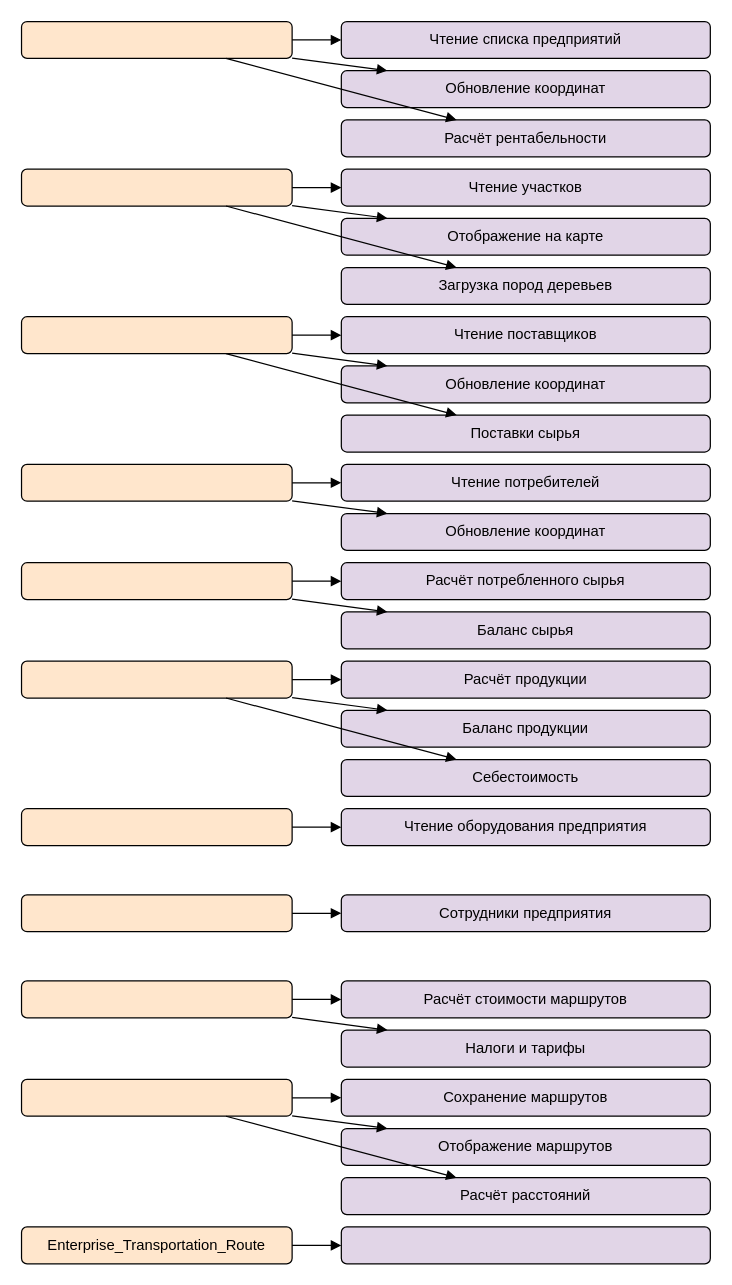
This 732x1285 diagram has some shape labels left out. Here are the shapes that lost their labels. From the top down, the centre of each, then its label:
At pixel 156 39: "Enterprises".
At pixel 156 187: "Logging_Areas".
At pixel 156 334: "Timber_Enterprises".
At pixel 156 482: "Product_Consumers".
At pixel 156 580: "Raw_Material_Supply".
At pixel 156 679: "Productions".
At pixel 156 826: "Enterprise_Equipment".
At pixel 156 913: "Employee_Enterprise".
At pixel 156 999: "Tariffs".
At pixel 156 1097: "Transportation_Route".
At pixel 525 1245: "Связь маршрутов с предприятиями".
